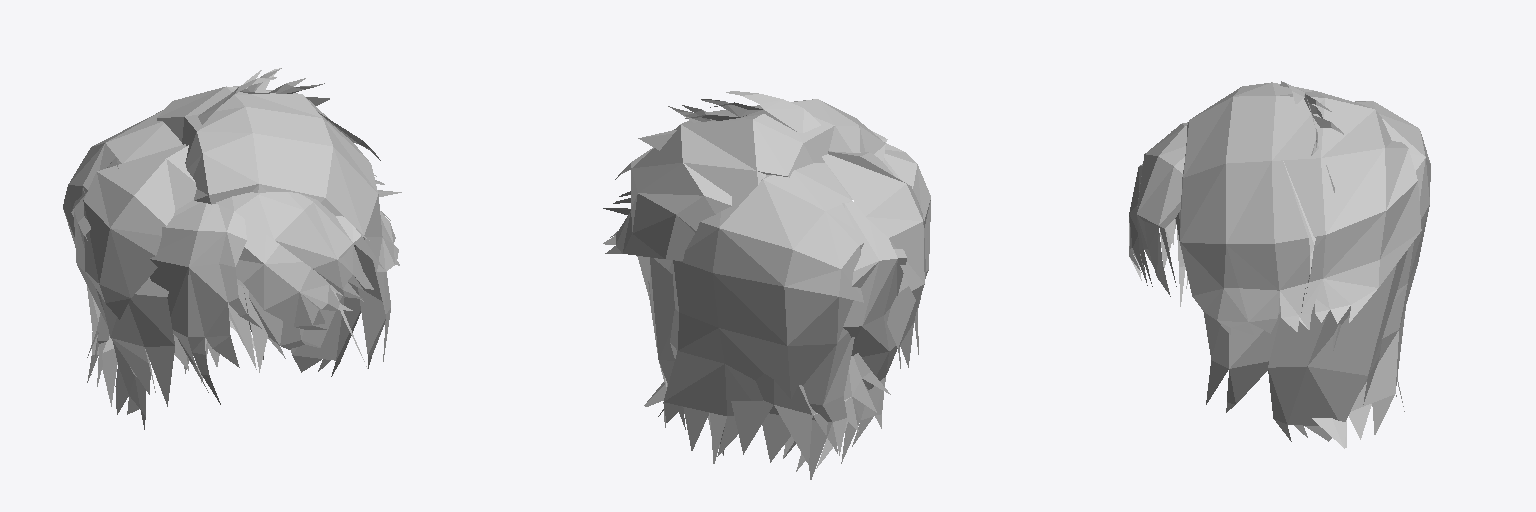
File: hair2_obj.obj
3 renders of one model, left to right at view 1: azimuth 30°, elevation 25°; view 2: azimuth 150°, elevation 25°; view 3: azimuth 270°, elevation 25°, orthographic.
Parts seen in each view (by area): view 1: default.003; view 2: default.003; view 3: default.003.
Part boxes in pixels (x1,y1,x2,y2): default.003: (63,68,401,429); default.003: (603,91,930,479); default.003: (1129,81,1430,448).
Size of the model in its own units: 7.63 by 7.72 by 6.35.